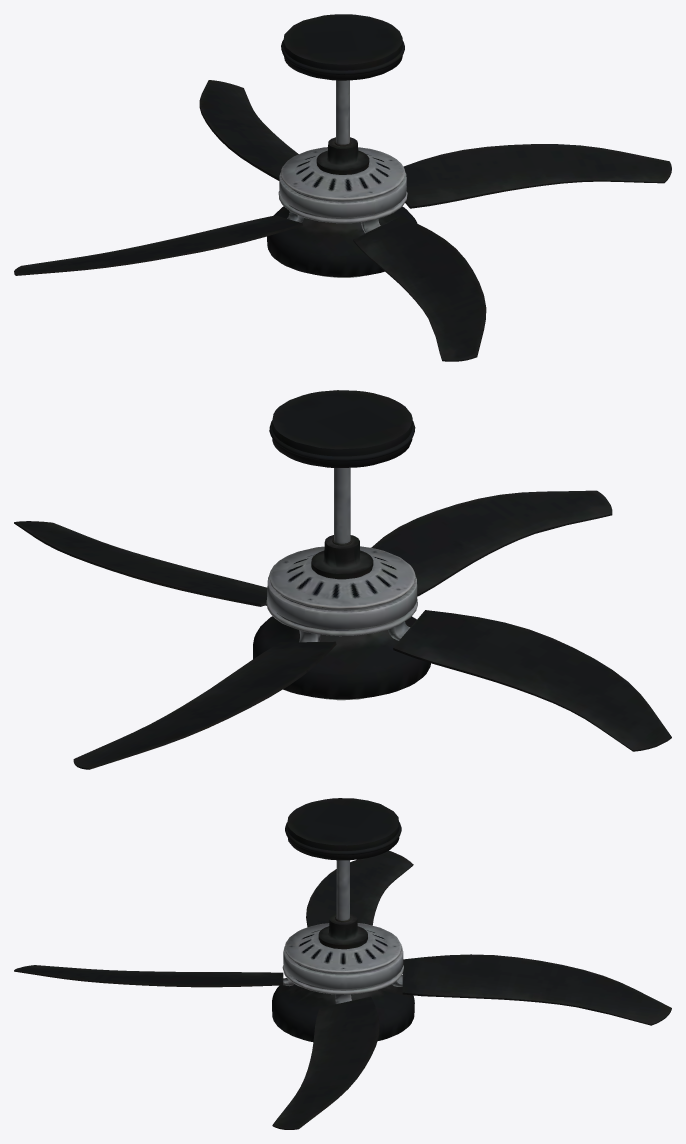
The model's file is ceiling_fan.glb.
3 views of the same model, one above another, from view 1: azimuth 30°, elevation 25°; view 2: azimuth 150°, elevation 25°; view 3: azimuth 270°, elevation 25° (orthographic). The views are drawn at different scales.
Parts seen in each view (by area): view 1: ceiling_fan_blades, ceiling_fan; view 2: ceiling_fan_blades, ceiling_fan; view 3: ceiling_fan_blades, ceiling_fan.
Part boxes in pixels (bbox=[...]): ceiling_fan_blades: bbox=[14, 80, 671, 361]; ceiling_fan: bbox=[267, 14, 417, 277]; ceiling_fan_blades: bbox=[14, 490, 671, 769]; ceiling_fan: bbox=[253, 390, 430, 700]; ceiling_fan_blades: bbox=[14, 850, 671, 1129]; ceiling_fan: bbox=[272, 798, 414, 1041].
Bounding box in the file's own units: 1.46 × 0.5163 × 1.46.
1 material, 1 textured.
